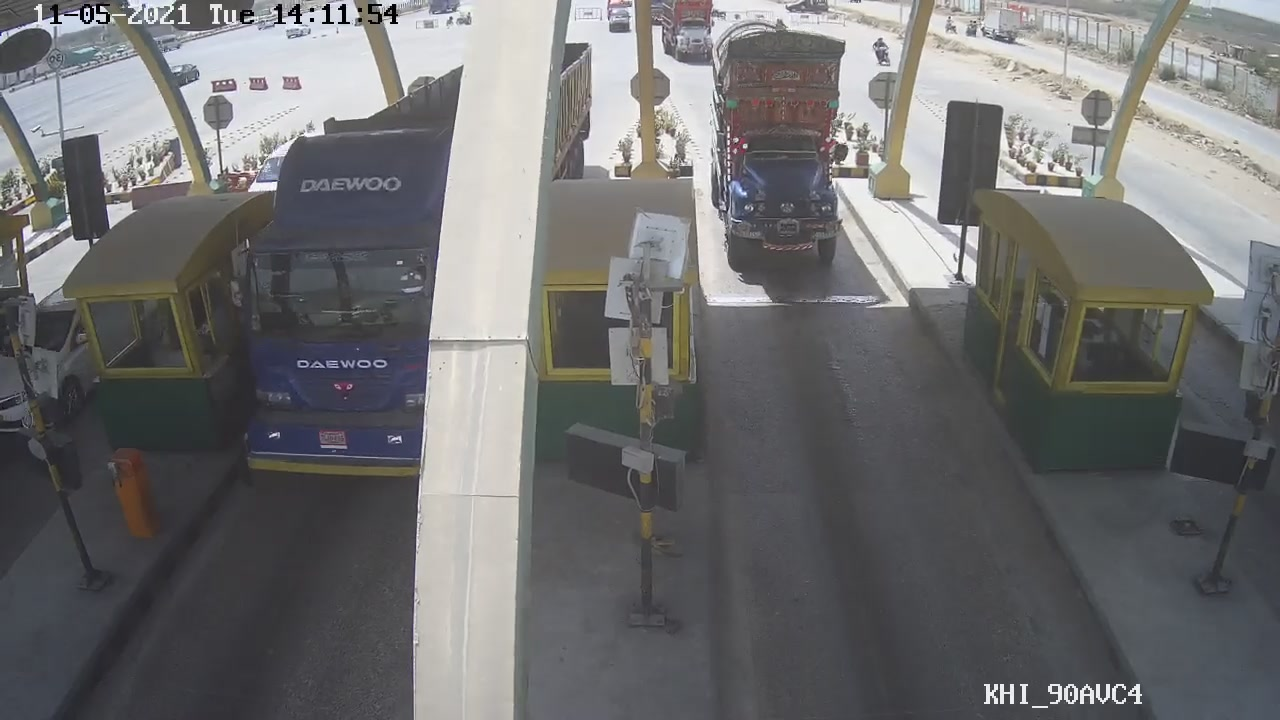F5: (706, 14, 865, 286)
